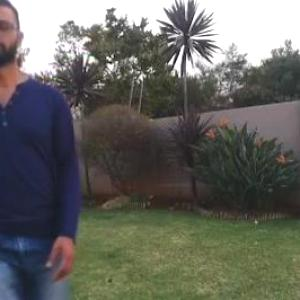follow: (1, 26, 85, 299)
